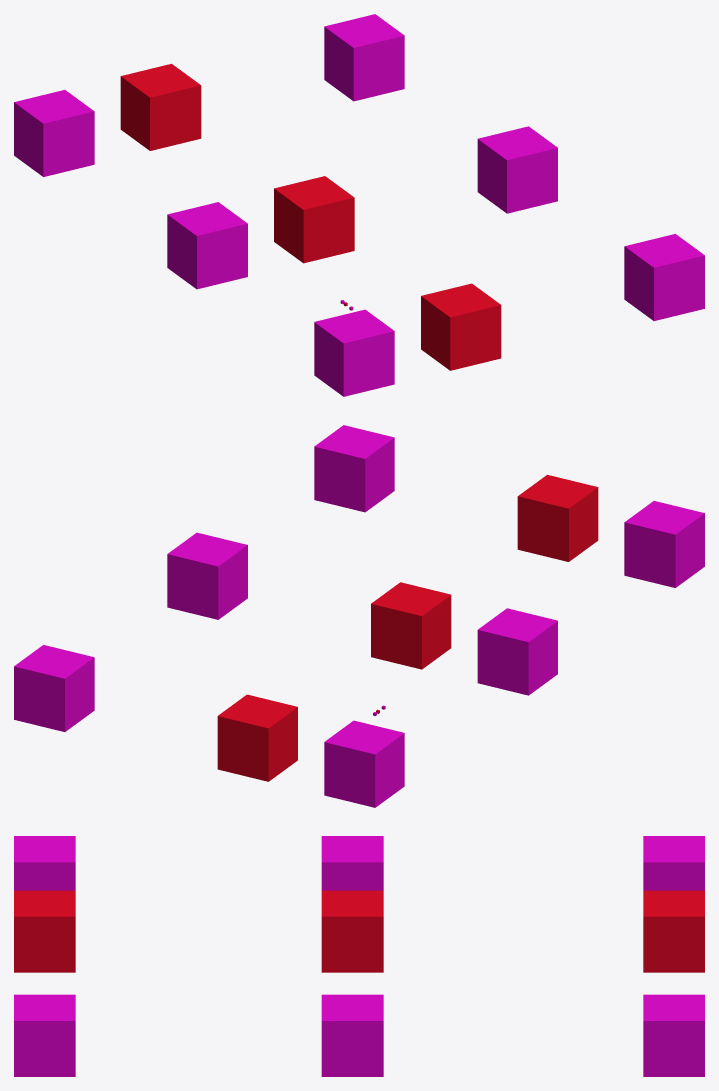
The model's file is asset.glb.
3 views of the same model, one above another, from view 1: azimuth 30°, elevation 25°; view 2: azimuth 150°, elevation 25°; view 3: azimuth 270°, elevation 25° (orthographic). The views are drawn at different scales.
Parts seen in each view (by area): view 1: Cube.001; view 2: Cube.001; view 3: Cube.001.
Part boxes in pixels (<box>): Cube.001: <box>14,14,704,396</box>; Cube.001: <box>14,425,704,807</box>; Cube.001: <box>14,836,704,1076</box>.
Bounding box in the file's own units: 247 × 79.01 × 390.
